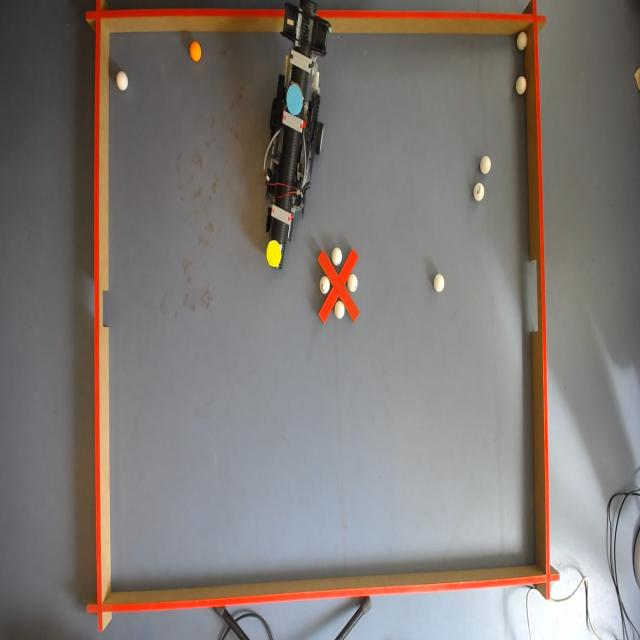orange: (190, 44, 204, 63)
robot: (265, 0, 323, 264)
robot-front: (266, 240, 282, 267)
robot-rear: (286, 84, 303, 115)
white: (116, 73, 130, 93), (516, 32, 529, 52), (434, 274, 448, 292), (515, 76, 526, 96), (479, 156, 491, 174), (333, 302, 344, 320), (331, 248, 343, 264), (474, 186, 485, 202), (348, 276, 358, 290), (321, 277, 330, 292)
